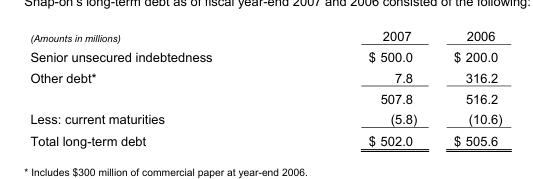table: (29, 28, 501, 147)
table column: (29, 28, 289, 147), (289, 28, 434, 147), (434, 28, 501, 147)
table column header: (29, 28, 501, 46)
table row: (29, 46, 501, 67), (29, 87, 501, 108), (29, 108, 501, 129), (29, 67, 501, 87), (29, 28, 501, 46), (29, 129, 501, 147)
